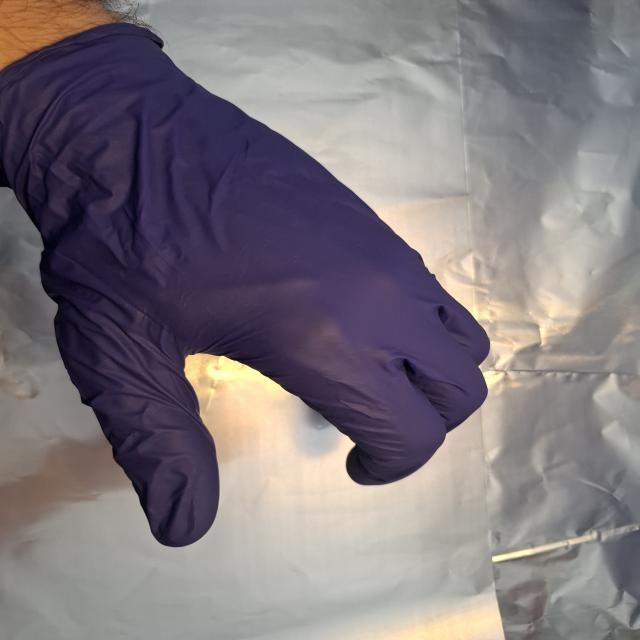glove_on: (2, 21, 496, 549)
